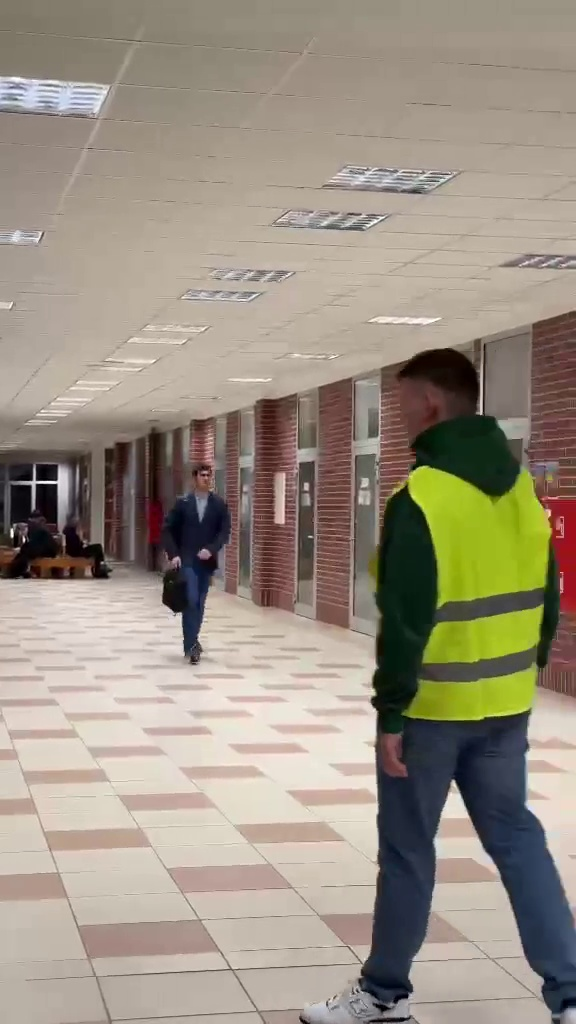no vest: (153, 457, 229, 658)
vest: (335, 346, 570, 1018)
